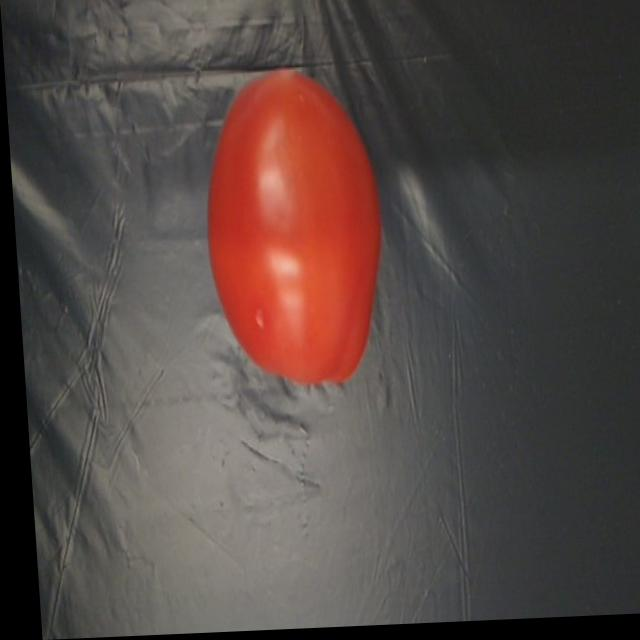kirmizi: (188, 62, 372, 382)
